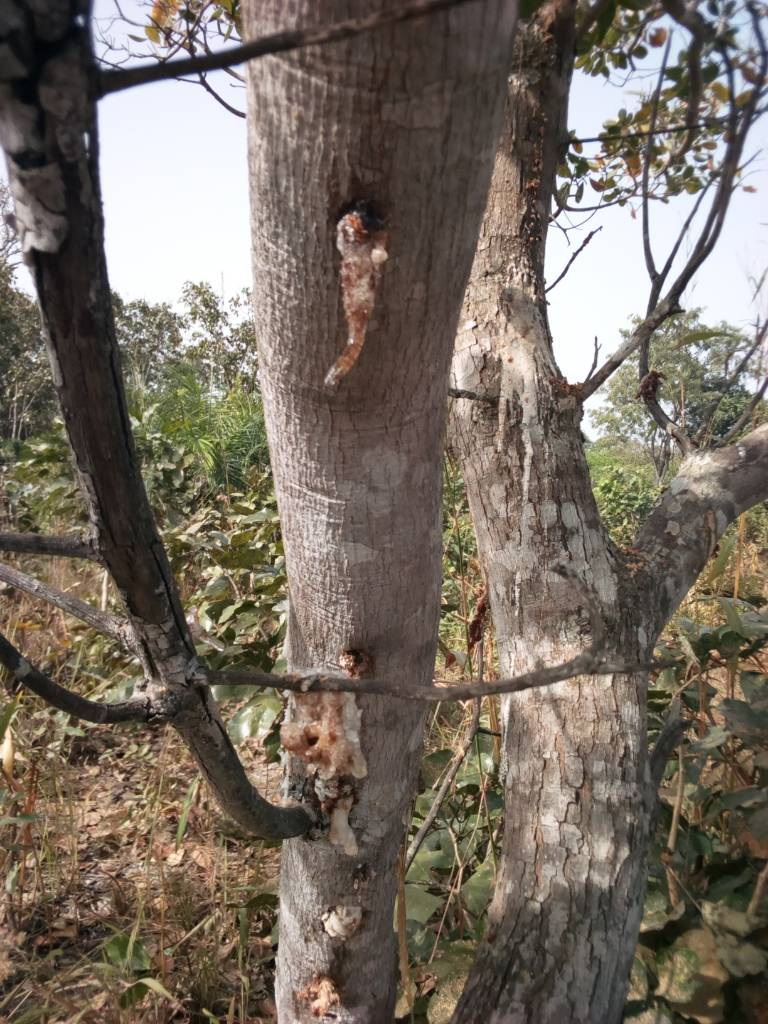Apate terebrans: (272, 146, 543, 425), (232, 641, 454, 917)
